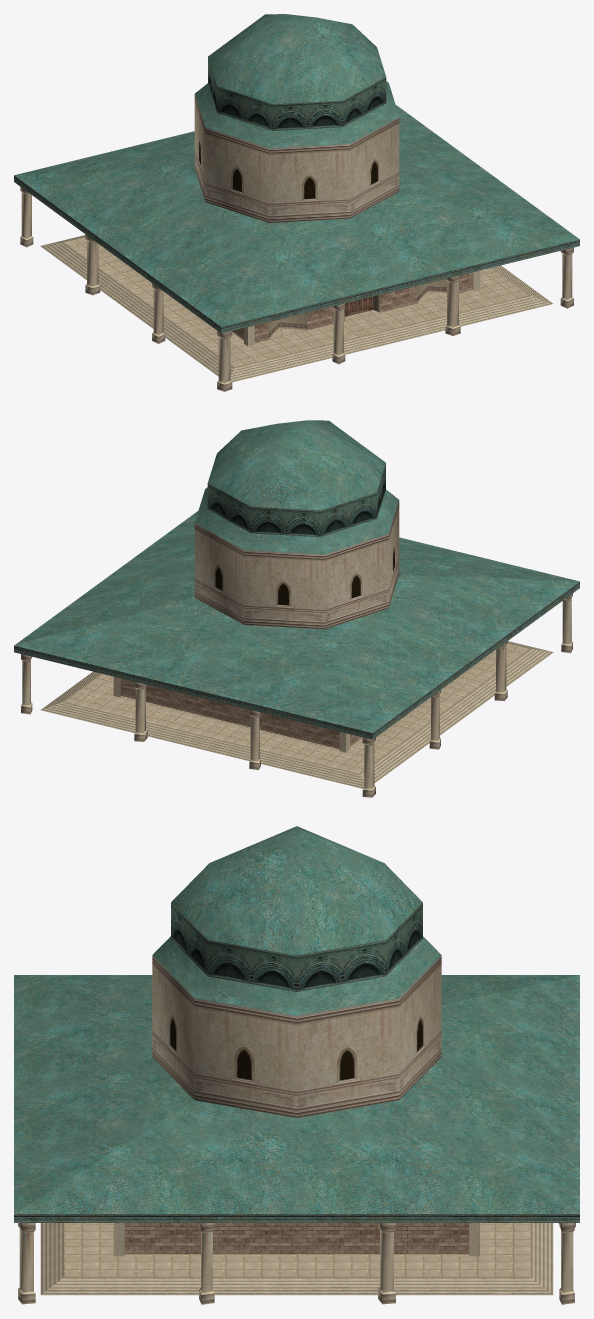
File: thm_nboo_thed_imprv_building_s01_l1.fbx
3 views of the same model, one above another, from view 1: azimuth 30°, elevation 25°; view 2: azimuth 150°, elevation 25°; view 3: azimuth 270°, elevation 25° (orthographic). The views are drawn at different scales.
Parts seen in each view (by area): view 1: mesh_node; view 2: mesh_node; view 3: mesh_node.
Boxes of the visible parts, x1=… form: mesh_node: x1=14, y1=14, x2=579, y2=391; mesh_node: x1=14, y1=420, x2=579, y2=797; mesh_node: x1=14, y1=826, x2=579, y2=1304.
Bounding box in the file's own units: 47.12 × 31.72 × 47.14.
